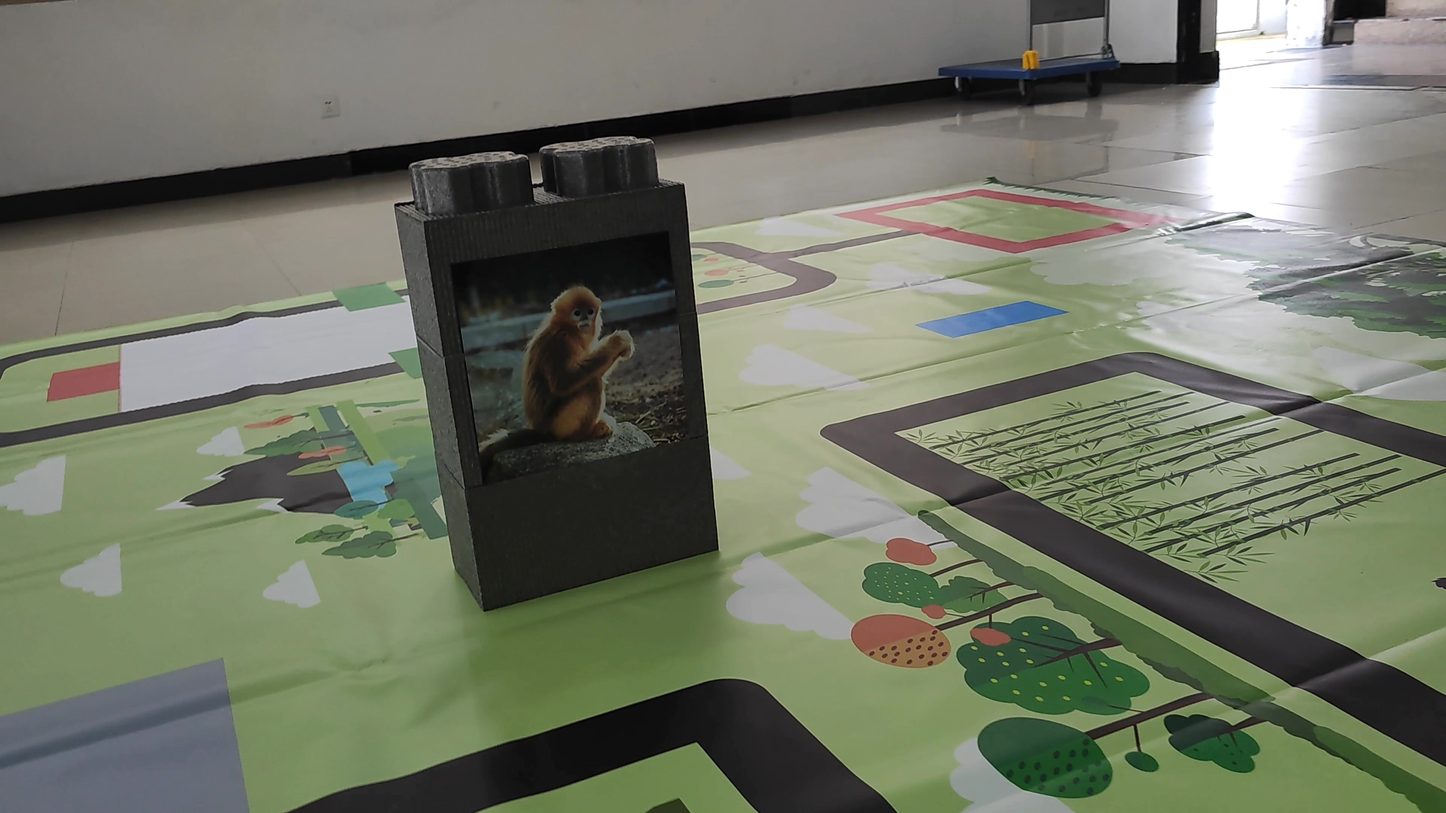monkey: (460, 266, 656, 467)
